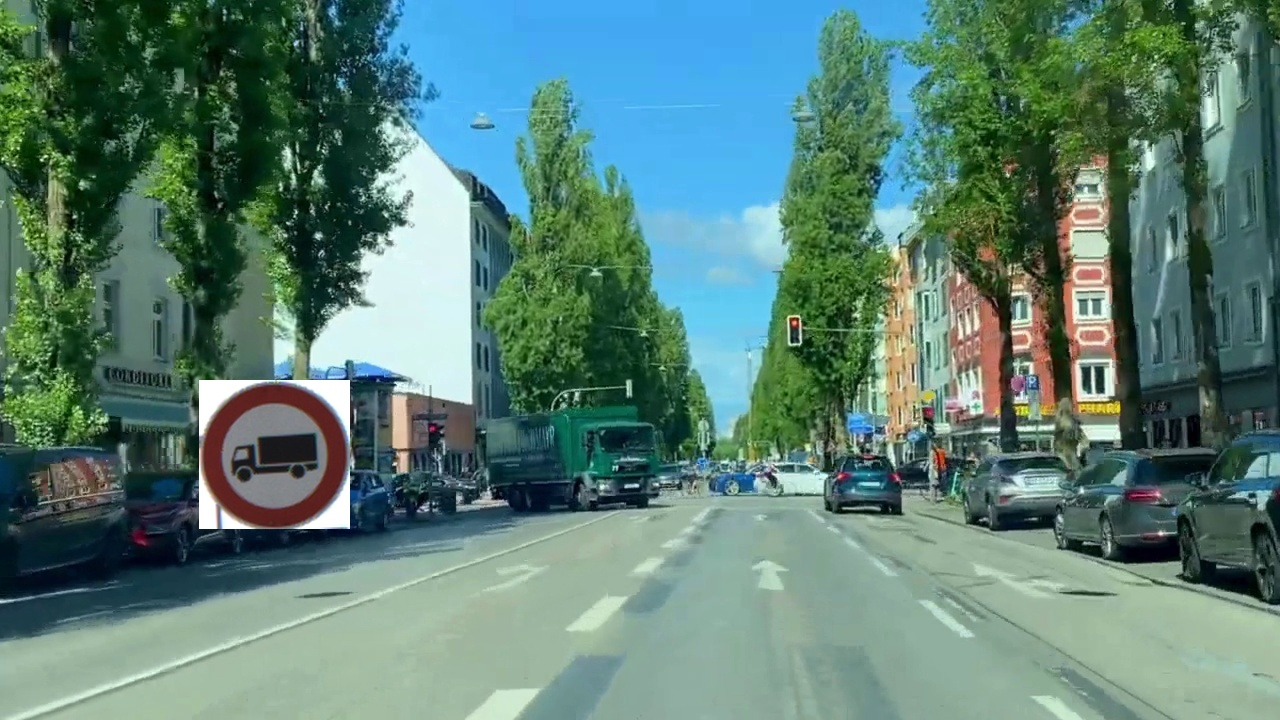Veh >3.5t prohib: (199, 380, 350, 529)
